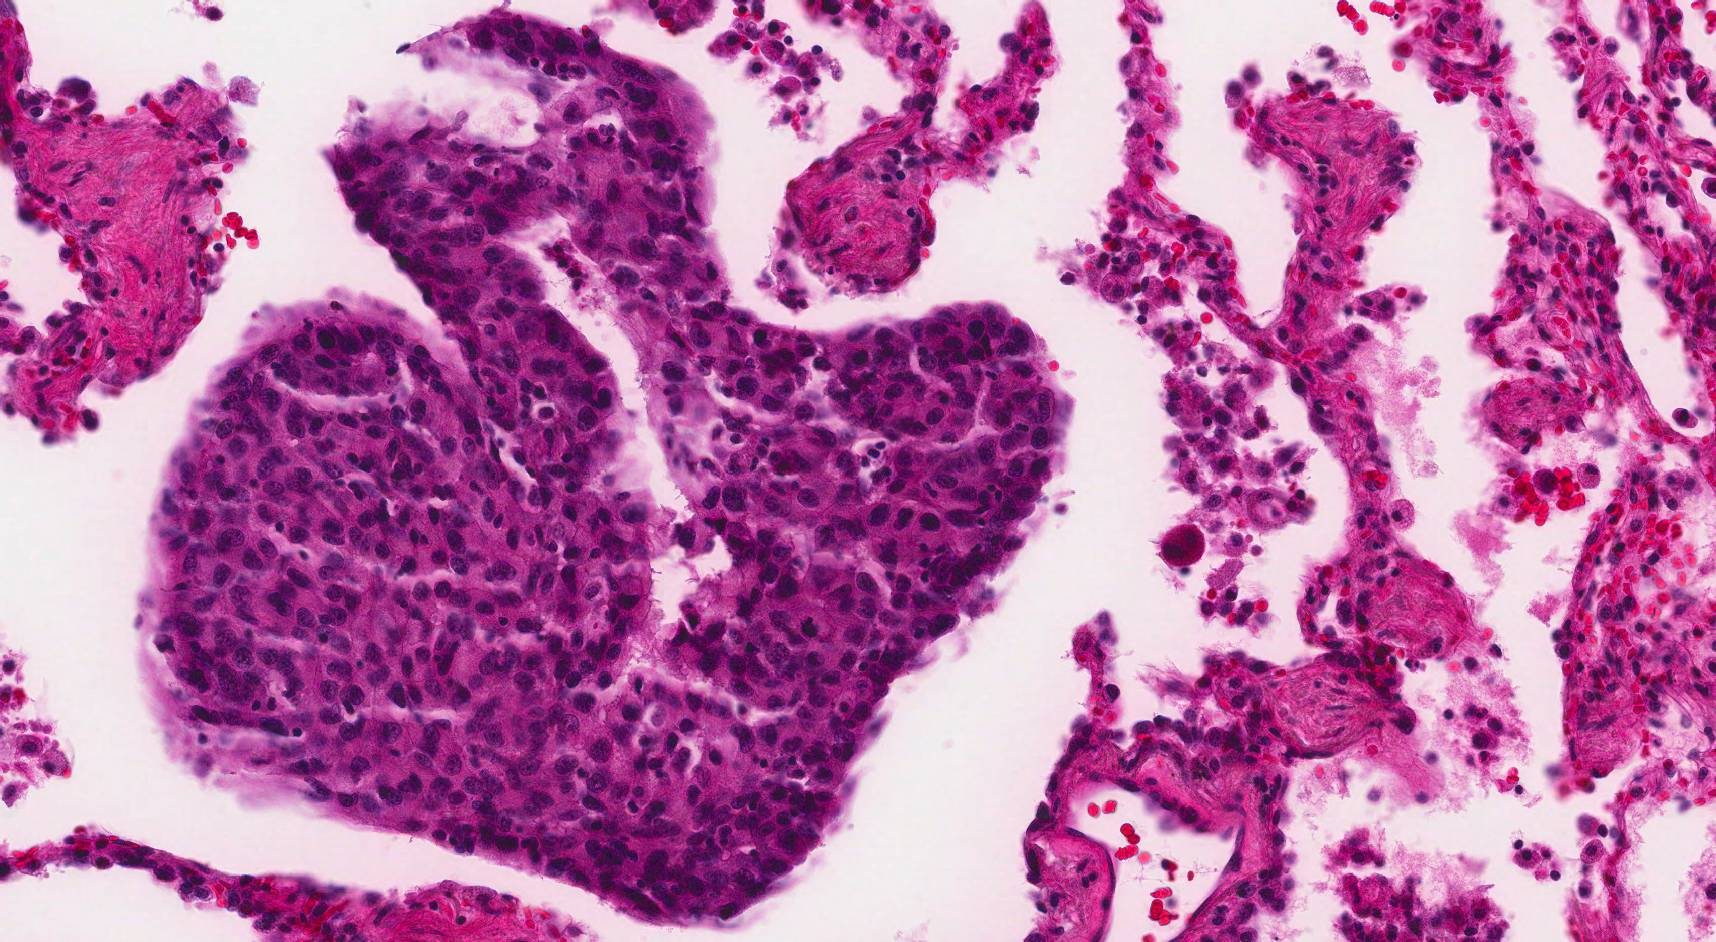stas: (133, 12, 1073, 929)
